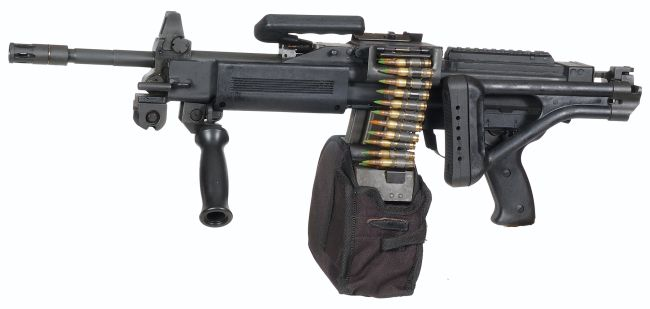rifle: (3, 12, 641, 299)
